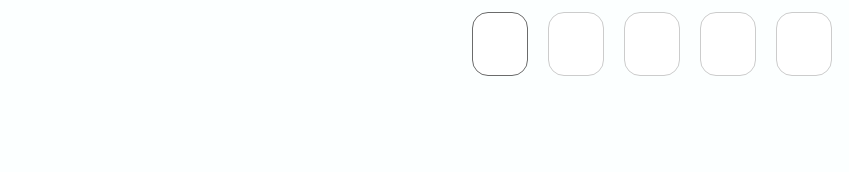
OtpInput › advances focus as digits are typed
Step 1. Type "1" into the field named "Digit 1" → (500, 44), box [472,12,528,76]
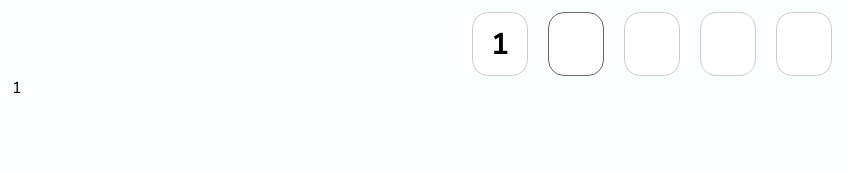
Step 2. Type "2" into the field named "Digit 2" → (576, 44), box [548,12,604,76]
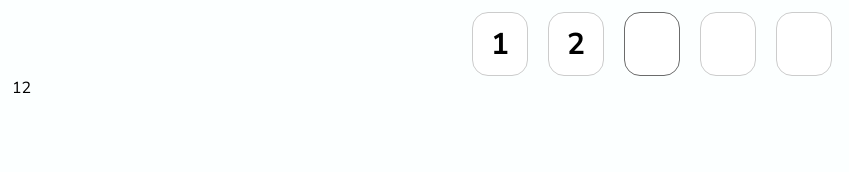
Step 3. Type "3" into the field named "Digit 3" → (652, 44), box [624,12,680,76]
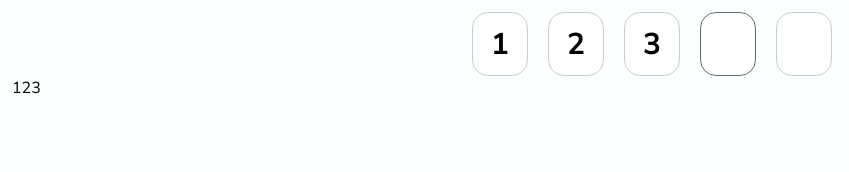
Step 4. Type "4" into the field named "Digit 4" → (728, 44), box [700,12,756,76]
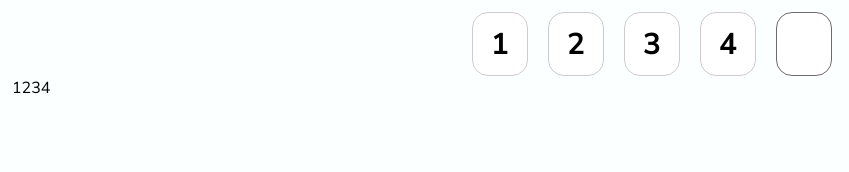
Step 5. Type "5" into the field named "Digit 5" → (804, 44), box [776,12,832,76]
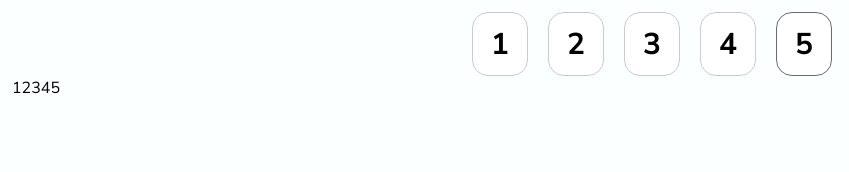
Expected: the text with test id "value" reads "12345", [12,77,60,99]
